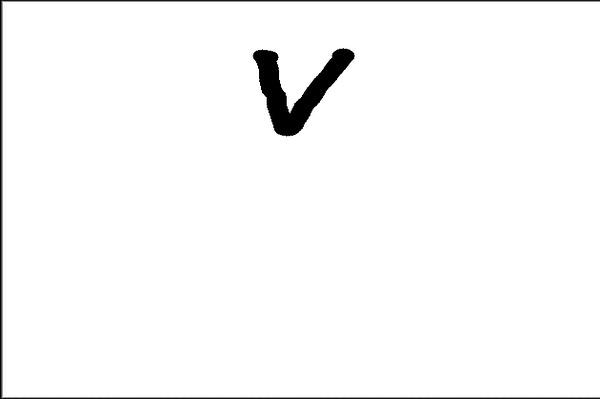V: (251, 35, 359, 135)
